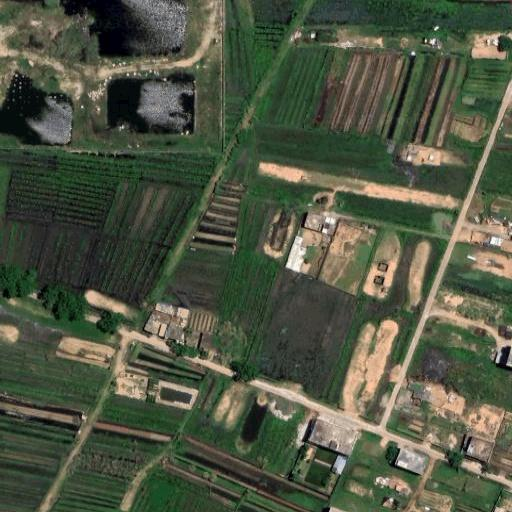building: (134, 78, 194, 128), (23, 95, 77, 149), (307, 416, 358, 457), (280, 233, 311, 274), (394, 447, 430, 476), (145, 309, 171, 336), (465, 436, 492, 461), (304, 213, 335, 234), (158, 301, 189, 318), (165, 323, 188, 342), (329, 453, 347, 475), (183, 330, 200, 348), (200, 332, 212, 352), (496, 349, 510, 366), (169, 314, 187, 327), (158, 324, 168, 338), (328, 506, 349, 512), (506, 345, 512, 366), (493, 507, 505, 512)
